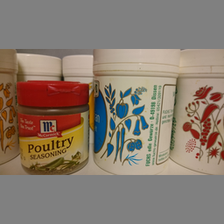spices: (93, 50, 181, 175), (16, 80, 91, 175), (169, 50, 224, 173)
